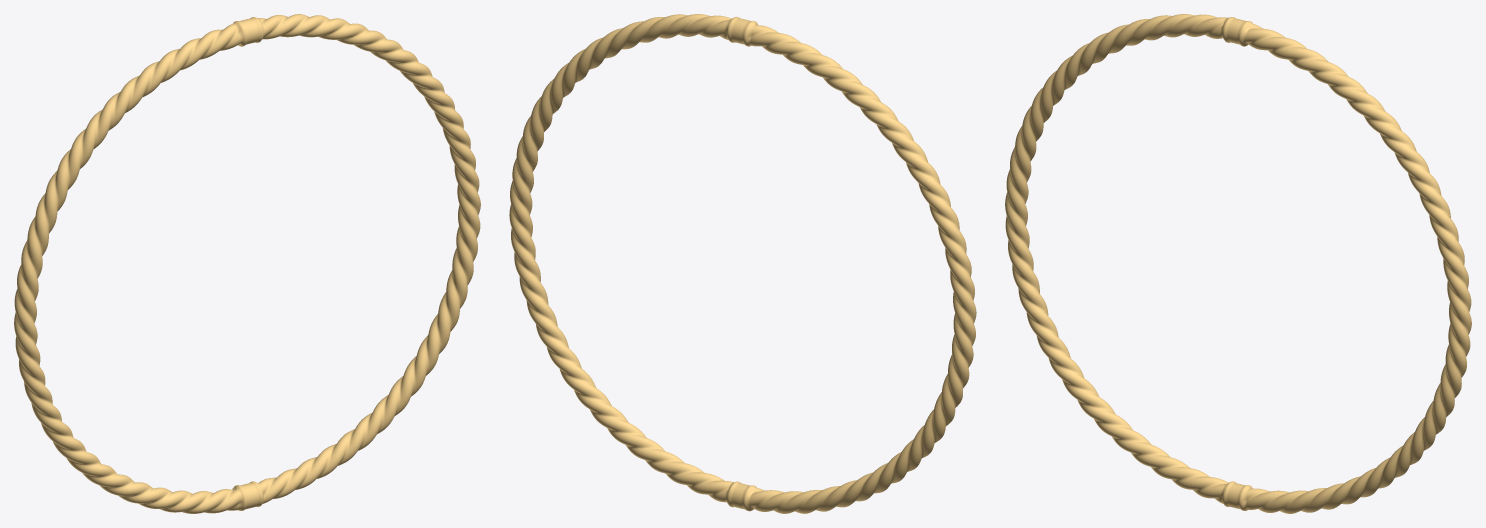
Rendered from bangle_twisted_rope.glb.
3 renders of one model, left to right at view 1: azimuth 30°, elevation 25°; view 2: azimuth 150°, elevation 25°; view 3: azimuth 330°, elevation 25°, orthographic.
Visible parts, largest first — view 1: gold; view 2: gold; view 3: gold.
Boxes of the visible parts, <box> form: gold: <box>14,14,480,513</box>; gold: <box>509,14,976,513</box>; gold: <box>1005,14,1471,513</box>.
Bounding box in the file's own units: 0.0664 × 0.0668 × 0.00325.
